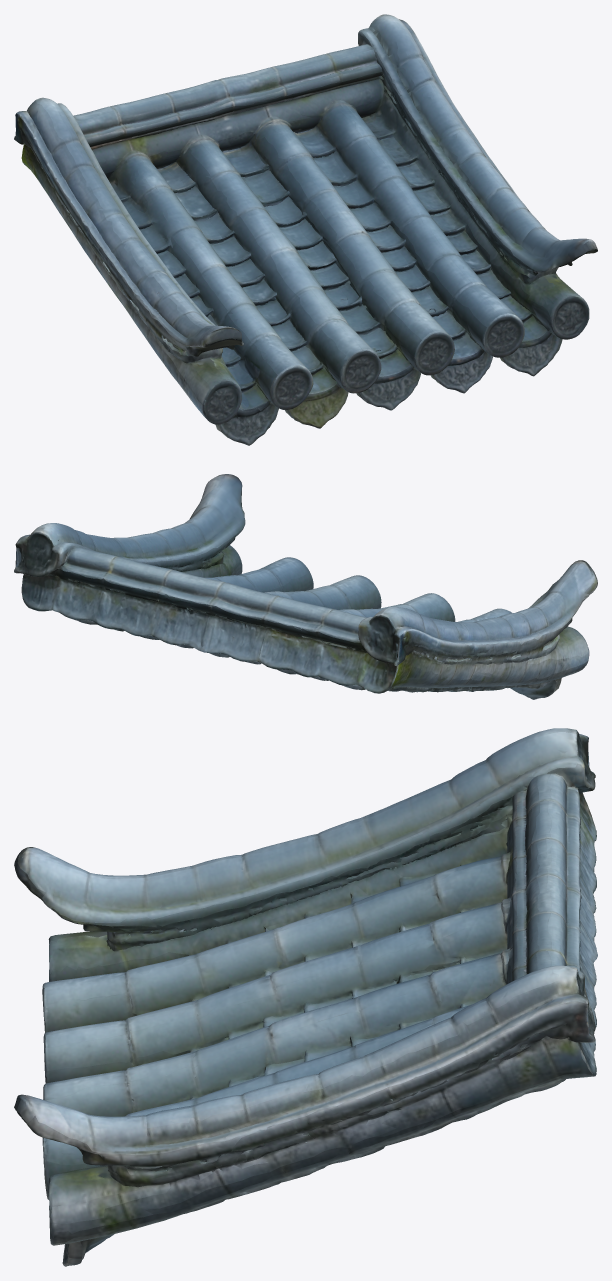
The model's file is eave-tile.glb.
The picture shows the model from 3 angles, top to bottom: view 1: azimuth 30°, elevation 25°; view 2: azimuth 150°, elevation 25°; view 3: azimuth 270°, elevation 25°; orthographic projection. The views are drawn at different scales.
Parts seen in each view (by area): view 1: geometry_0; view 2: geometry_0; view 3: geometry_0.
Boxes of the visible parts, bbox=[...] form: geometry_0: bbox=[14, 14, 597, 445]; geometry_0: bbox=[14, 474, 597, 699]; geometry_0: bbox=[14, 728, 597, 1266].
Size of the model in its own units: 1.2 by 0.6578 by 1.09.
Materials: 1 (1 with a texture image).
